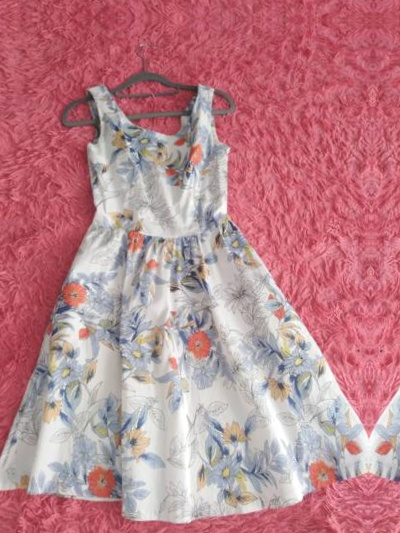Dress: (0, 57, 370, 524), (372, 62, 400, 528)
